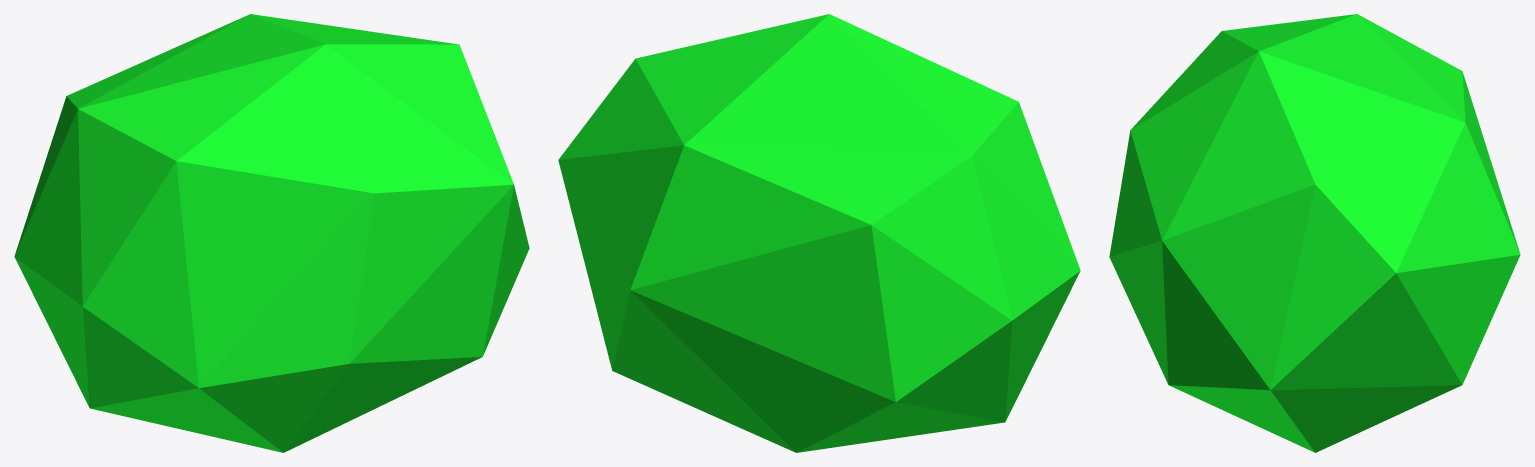
Rendered from Throwing Rock.fbx.
3 views of the same model, side by side, from view 1: azimuth 30°, elevation 25°; view 2: azimuth 150°, elevation 25°; view 3: azimuth 270°, elevation 25° (orthographic). The views are drawn at different scales.
Visible parts, largest first — view 1: Throwing Rock; view 2: Throwing Rock; view 3: Throwing Rock.
Boxes of the visible parts, left/top/right/bottom form: Throwing Rock: left=14, top=14, right=529, bottom=452; Throwing Rock: left=558, top=14, right=1080, bottom=452; Throwing Rock: left=1109, top=14, right=1520, bottom=452.
Size of the model in its own units: 239 by 199 by 199.
